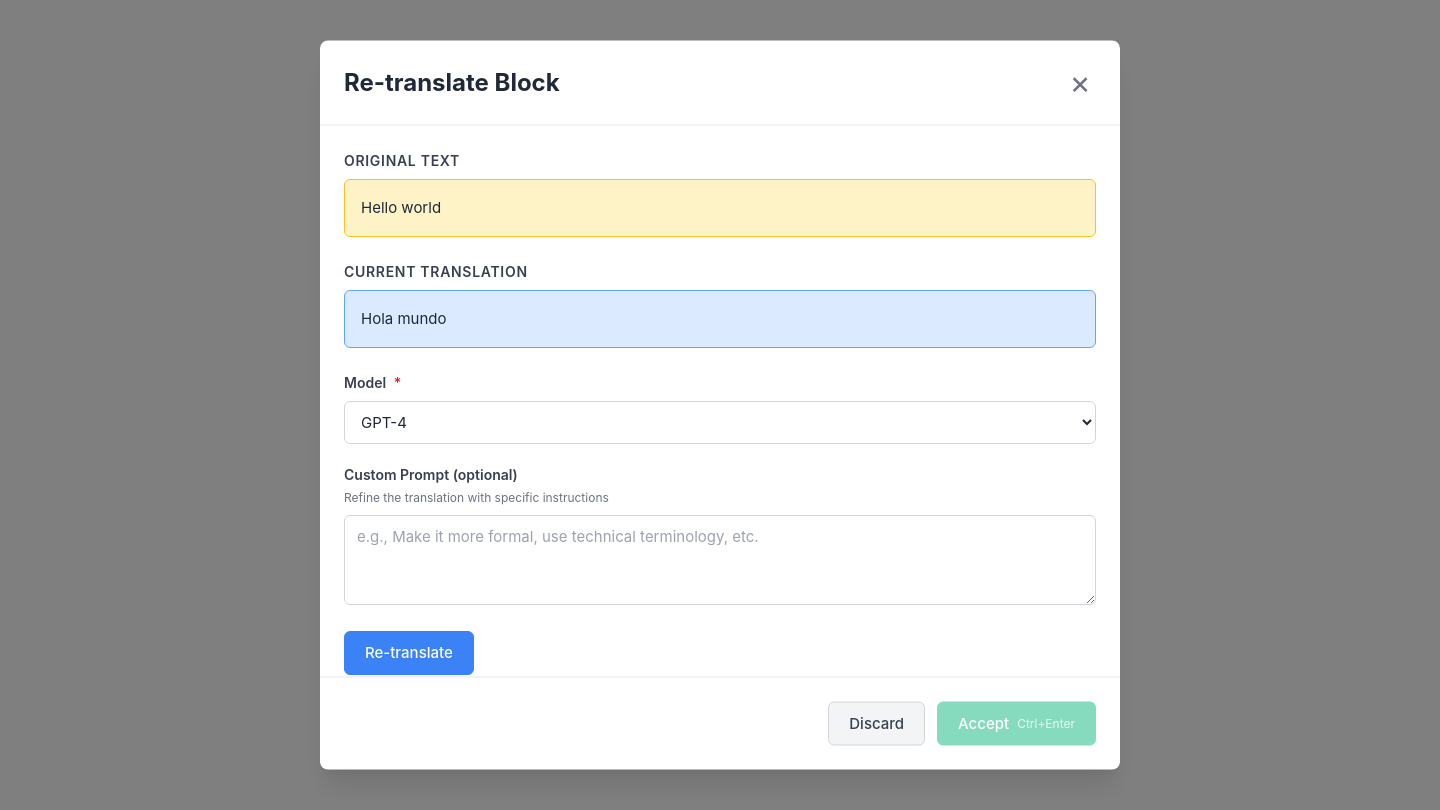
BlockRetranslate Component › Re-translation › displays new translation after successful re-translation
What coordinates should you click on to do the following:
click the button with test id "retranslate-button"
I would click on:
 (409, 652)
Its box is 344,630 -> 474,674.
(page scrolled)
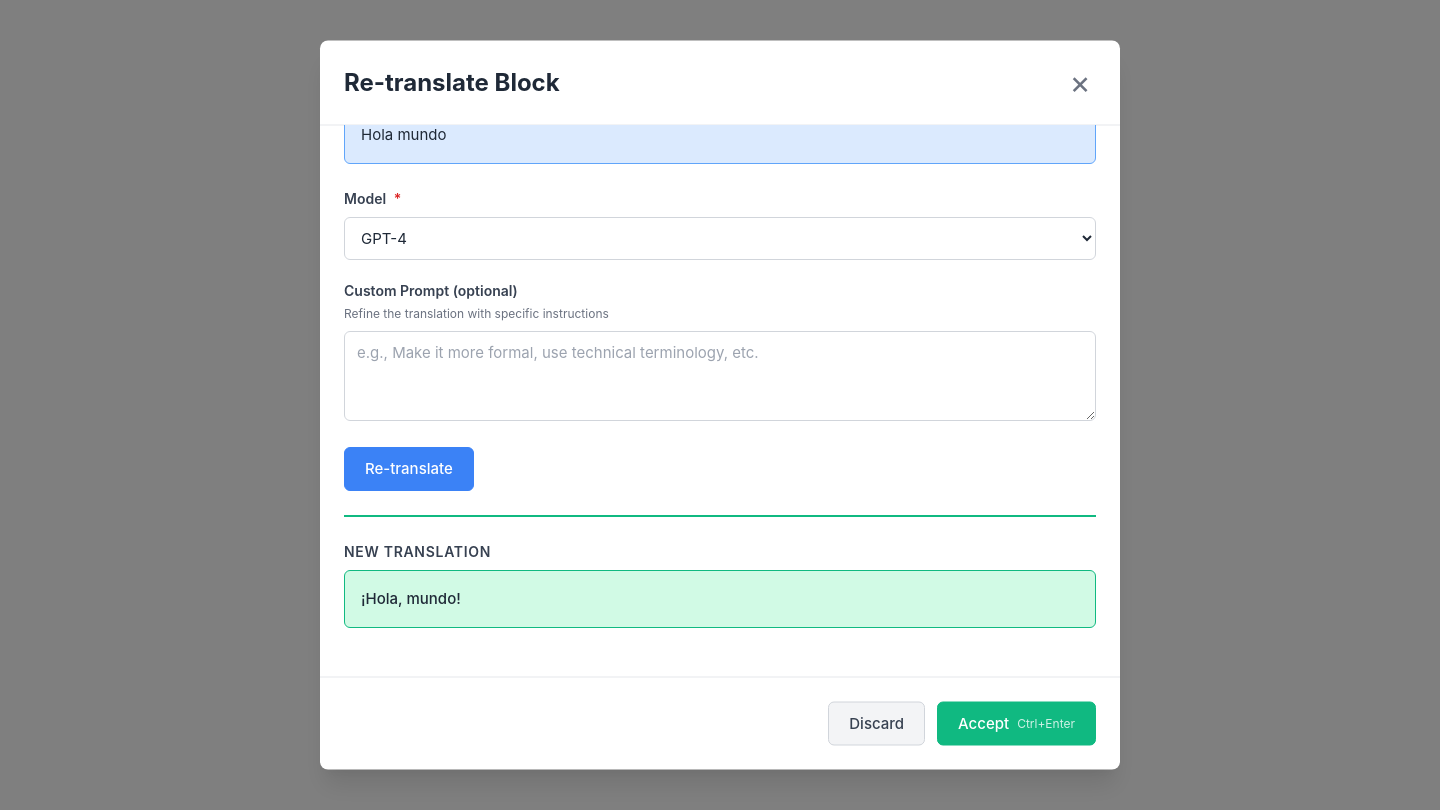
Now the text with test id "new-translation" reads "¡Hola, mundo!", box 361,590 -> 461,608
